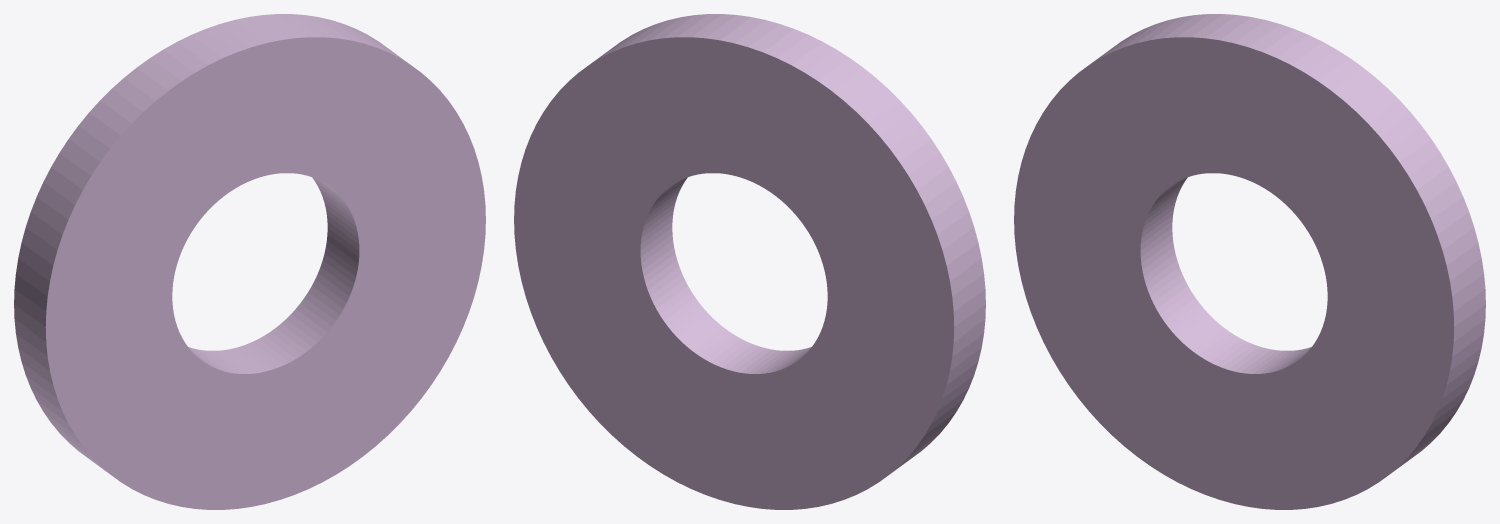
Rendered from washer_mesh_demo.glb.
3 renders of one model, left to right at view 1: azimuth 30°, elevation 25°; view 2: azimuth 150°, elevation 25°; view 3: azimuth 330°, elevation 25°, orthographic.
Visible parts, largest first — view 1: washer; view 2: washer; view 3: washer.
Part boxes in pixels (<box>): washer: <box>14,14,485,509</box>; washer: <box>514,14,985,509</box>; washer: <box>1014,14,1485,509</box>.
Bounding box in the file's own units: 8 × 8 × 1.
